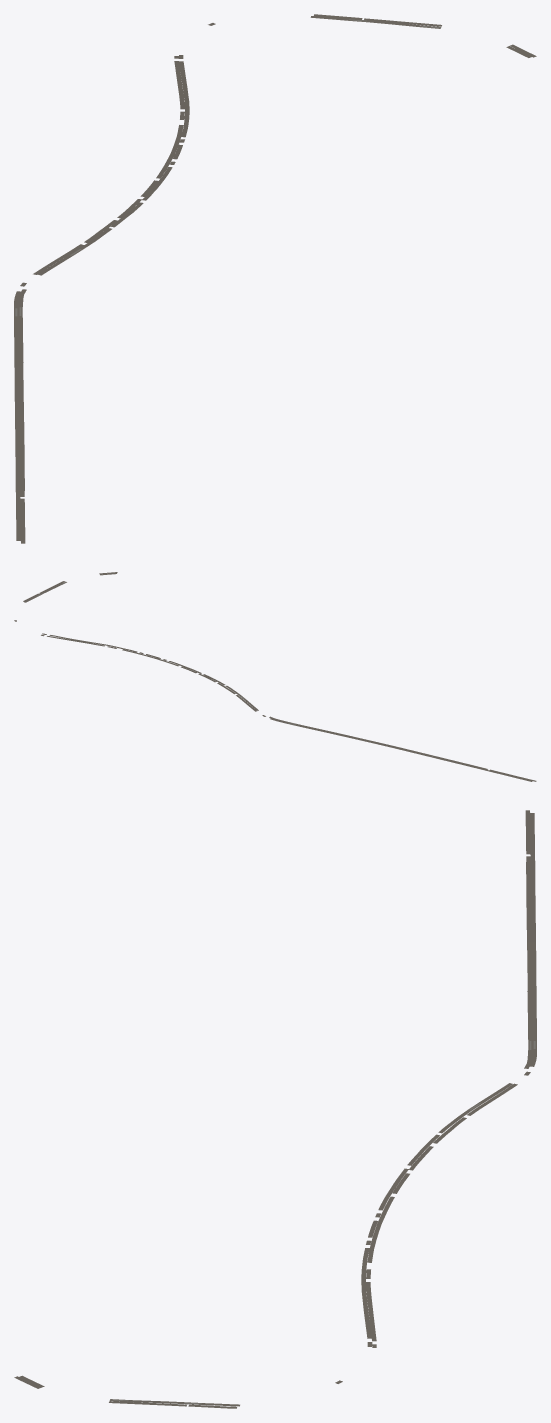
The model's file is br_k209_valley_line_track_lod3.gltf.
3 renders of one model, top to bottom at view 1: azimuth 90°, elevation 25°; view 2: azimuth 150°, elevation 25°; view 3: azimuth 270°, elevation 25°, orthographic. The views are drawn at different scales.
Visible parts, largest first — view 1: br_k209_valley_line_track_lod3; view 2: br_k209_valley_line_track_lod3; view 3: br_k209_valley_line_track_lod3.
Boxes of the visible parts, box(x1,y1,x2,y2) form: br_k209_valley_line_track_lod3: box(14, 14, 536, 543); br_k209_valley_line_track_lod3: box(14, 572, 536, 781); br_k209_valley_line_track_lod3: box(14, 810, 536, 1408).
Bounding box in the file's own units: 1273 × 43.1 × 499.
